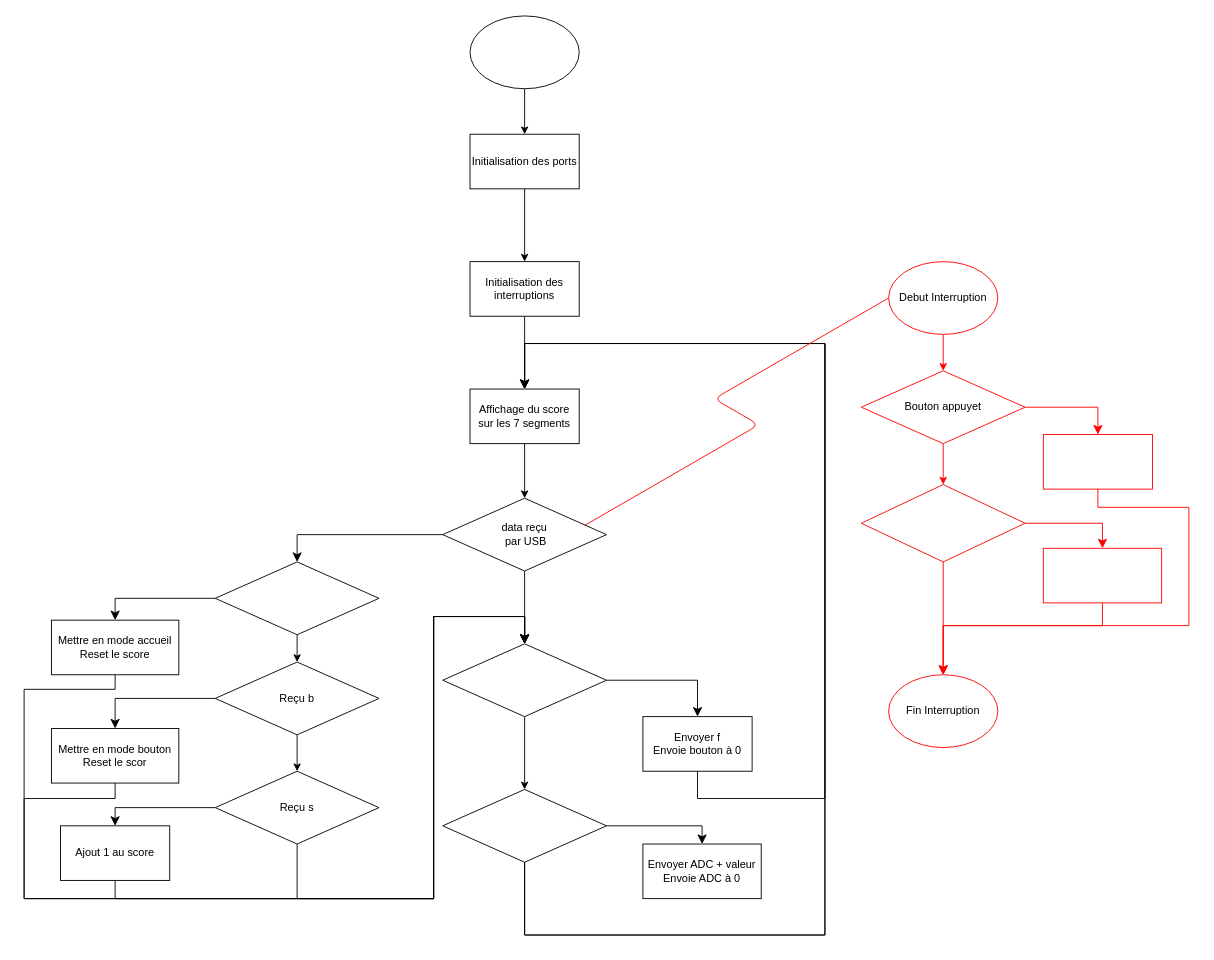
The diagram is 1214 pixels wide and 960 high, and some of its shapes have lost their labels. The shapes that lost their labels are listed below. From the top down, each one's centre as x and y in pixels, then its label:
(x=524, y=52): Début
(x=1097, y=461): Envoie du bouton à 1
(x=942, y=523): Fin de conversion ADS
(x=1102, y=575): Envoie ADC à 1
(x=296, y=598): Reçu a
(x=524, y=680): Envoyer un appuie de bouton
(x=524, y=825): Envoyer une donnée lu par ADC
